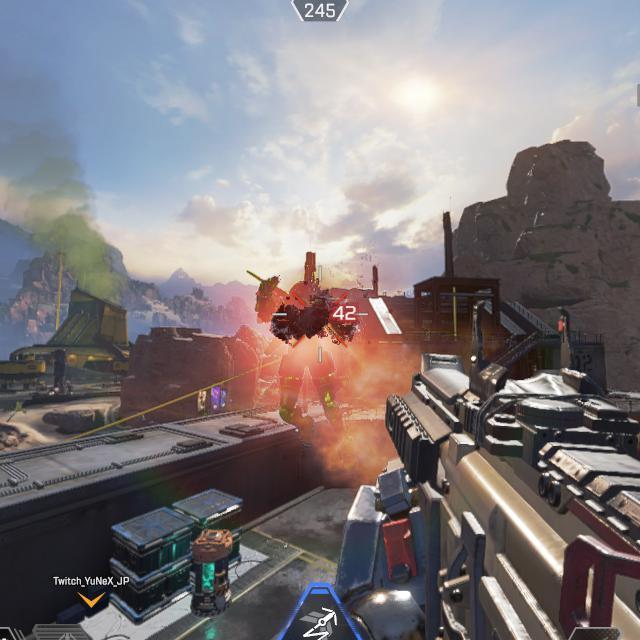avatar: (256, 275, 358, 443)
